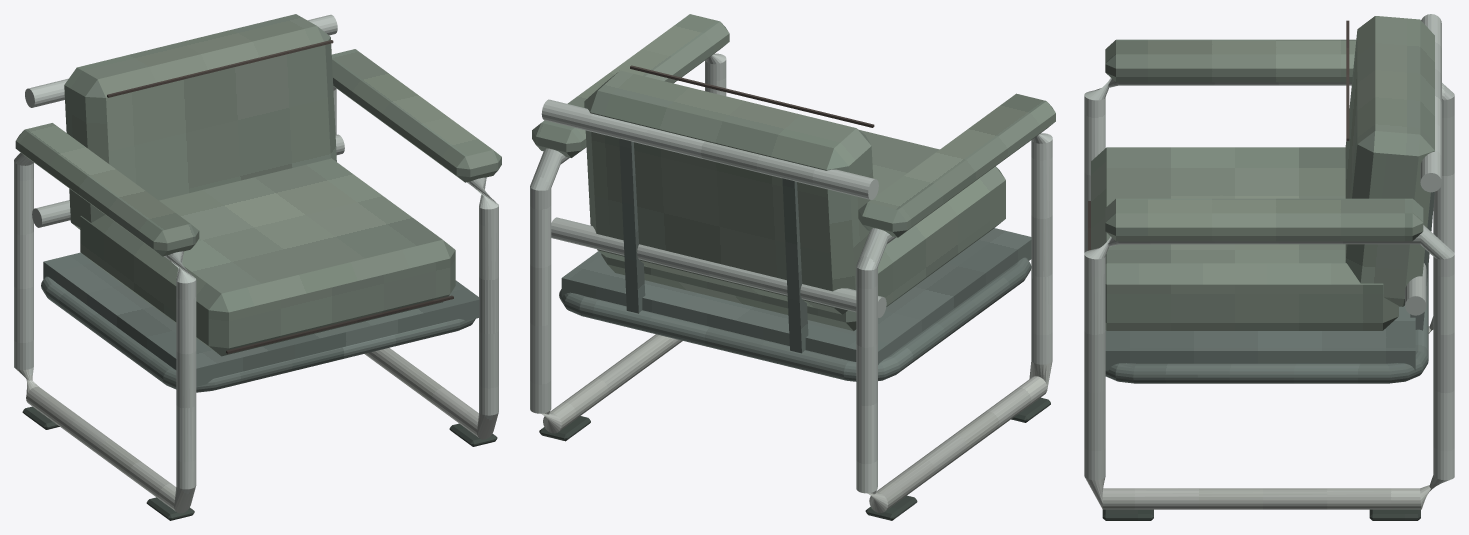
File: sofa-one.glb
The picture shows the model from 3 angles, left to right: view 1: azimuth 30°, elevation 25°; view 2: azimuth 150°, elevation 25°; view 3: azimuth 270°, elevation 25°; orthographic projection. The views are drawn at different scales.
Parts seen in each view (by area): view 1: sofa-one/seat-cushion-0, sofa-one/back-cushion-0, sofa-one/side-frame--1, sofa-one/seat-deck, sofa-one/arm-pad--1, sofa-one/arm-pad-1, sofa-one/side-frame-1, sofa-one/seat-support, sofa-one/back-support-upper, sofa-one/detail-welt-seat-cushion-0, sofa-one/detail2-back-welt-back-cushion-0, sofa-one/back-support-lower; view 2: sofa-one/back-cushion-0, sofa-one/side-frame--1, sofa-one/seat-deck, sofa-one/seat-cushion-0, sofa-one/side-frame-1, sofa-one/arm-pad--1, sofa-one/seat-support, sofa-one/back-support-upper, sofa-one/arm-pad-1, sofa-one/back-support-lower, sofa-one/back-connector--0.183125, sofa-one/back-connector-0.183125 (+1 smaller); view 3: sofa-one/seat-cushion-0, sofa-one/side-frame-1, sofa-one/back-cushion-0, sofa-one/arm-pad-1, sofa-one/seat-deck, sofa-one/arm-pad--1, sofa-one/seat-support, sofa-one/side-frame--1, sofa-one/back-support-upper, sofa-one/back-support-lower, sofa-one/floor-glide-1-0.26, sofa-one/floor-glide-10.26 (+2 smaller).
Part boxes in pixels (bbox=[...]): sofa-one/seat-cushion-0: bbox=[80, 158, 455, 356]; sofa-one/back-cushion-0: bbox=[64, 14, 336, 229]; sofa-one/side-frame--1: bbox=[14, 152, 196, 513]; sofa-one/seat-deck: bbox=[43, 252, 479, 386]; sofa-one/arm-pad--1: bbox=[15, 123, 199, 256]; sofa-one/arm-pad-1: bbox=[331, 49, 501, 182]; sofa-one/side-frame-1: bbox=[333, 86, 498, 439]; sofa-one/seat-support: bbox=[41, 276, 475, 392]; sofa-one/back-support-upper: bbox=[25, 14, 337, 107]; sofa-one/detail-welt-seat-cushion-0: bbox=[226, 295, 453, 353]; sofa-one/detail2-back-welt-back-cushion-0: bbox=[107, 40, 333, 97]; sofa-one/back-support-lower: bbox=[32, 134, 344, 227]; sofa-one/back-cushion-0: bbox=[584, 70, 873, 314]; sofa-one/side-frame--1: bbox=[856, 133, 1052, 512]; sofa-one/seat-deck: bbox=[561, 228, 1031, 364]; sofa-one/seat-cushion-0: bbox=[601, 130, 1005, 330]; sofa-one/side-frame-1: bbox=[530, 53, 726, 433]; sofa-one/arm-pad--1: bbox=[858, 93, 1055, 237]; sofa-one/seat-support: bbox=[559, 257, 1031, 381]; sofa-one/back-support-upper: bbox=[541, 99, 878, 199]; sofa-one/arm-pad-1: bbox=[532, 14, 729, 157]; sofa-one/back-support-lower: bbox=[551, 217, 886, 317]; sofa-one/back-connector--0.183125: bbox=[782, 178, 808, 353]; sofa-one/back-connector-0.183125: bbox=[619, 138, 645, 313]; sofa-one/seat-cushion-0: bbox=[1091, 147, 1398, 330]; sofa-one/side-frame-1: bbox=[1084, 225, 1454, 509]; sofa-one/back-cushion-0: bbox=[1345, 16, 1434, 306]; sofa-one/arm-pad-1: bbox=[1105, 198, 1423, 241]; sofa-one/seat-deck: bbox=[1105, 305, 1415, 370]; sofa-one/arm-pad--1: bbox=[1105, 39, 1356, 82]; sofa-one/seat-support: bbox=[1105, 266, 1428, 383]; sofa-one/side-frame--1: bbox=[1084, 78, 1454, 333]; sofa-one/back-support-upper: bbox=[1420, 14, 1441, 192]; sofa-one/back-support-lower: bbox=[1405, 263, 1426, 315]; sofa-one/floor-glide-1-0.26: bbox=[1102, 509, 1153, 520]; sofa-one/floor-glide-10.26: bbox=[1369, 509, 1420, 520].
Bounding box in the file's own units: 0.8425 × 0.7792 × 0.7219.
Materials: 5 (5 with a texture image).
